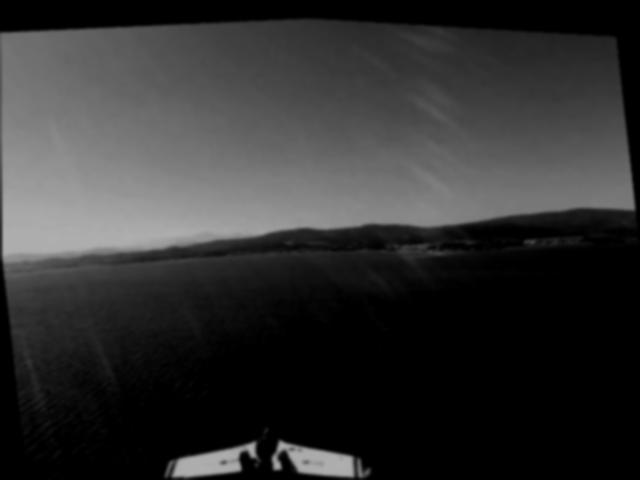hedef: (137, 394, 381, 480)
